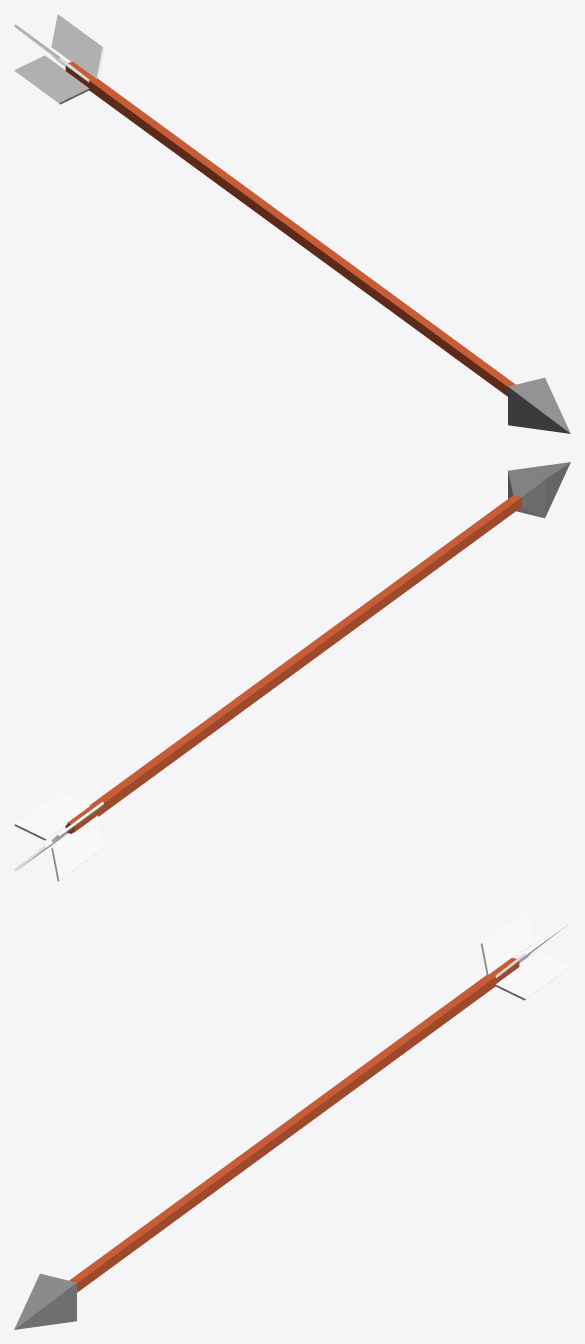
The model's file is Arrow.fbx.
3 renders of one model, top to bottom at view 1: azimuth 30°, elevation 25°; view 2: azimuth 150°, elevation 25°; view 3: azimuth 330°, elevation 25°, orthographic.
Visible parts, largest first — view 1: Arrow; view 2: Arrow; view 3: Arrow.
Part boxes in pixels (<box>): Arrow: <box>14,14,570,433</box>; Arrow: <box>14,462,570,881</box>; Arrow: <box>14,910,570,1329</box>.
Size of the model in its own units: 72.35 by 72.35 by 1477.
